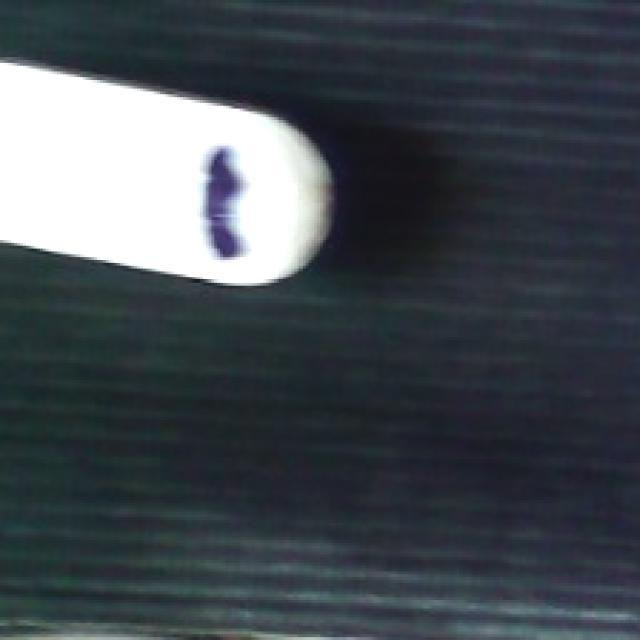defected: (0, 55, 349, 294)
